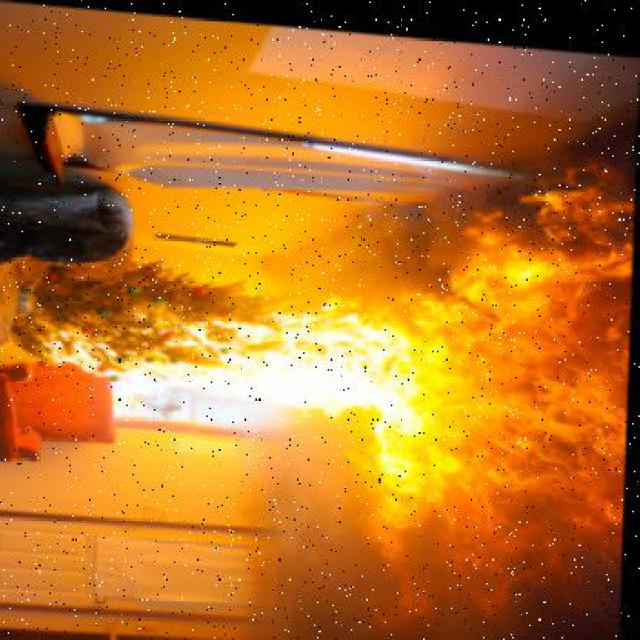fire: (84, 121, 636, 635)
